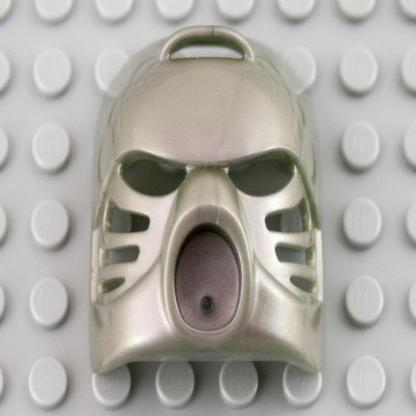Helmet: (77, 50, 334, 398)
